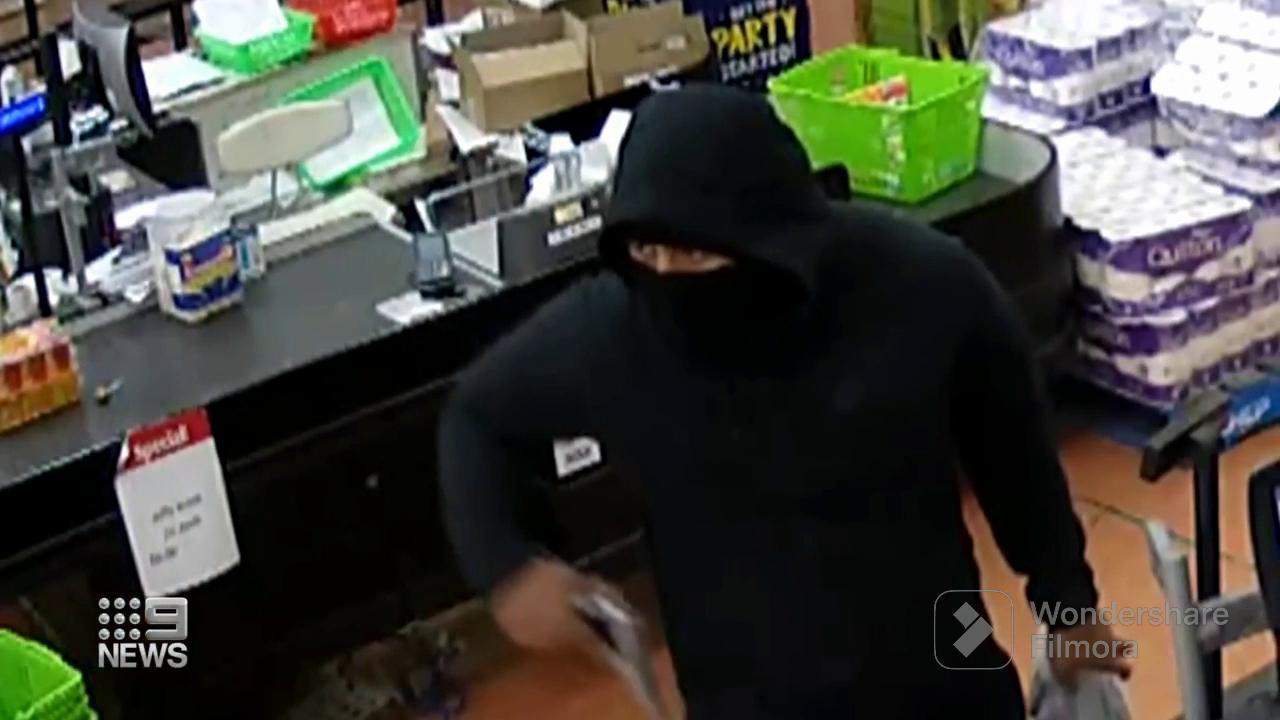gun: (566, 569, 700, 718)
